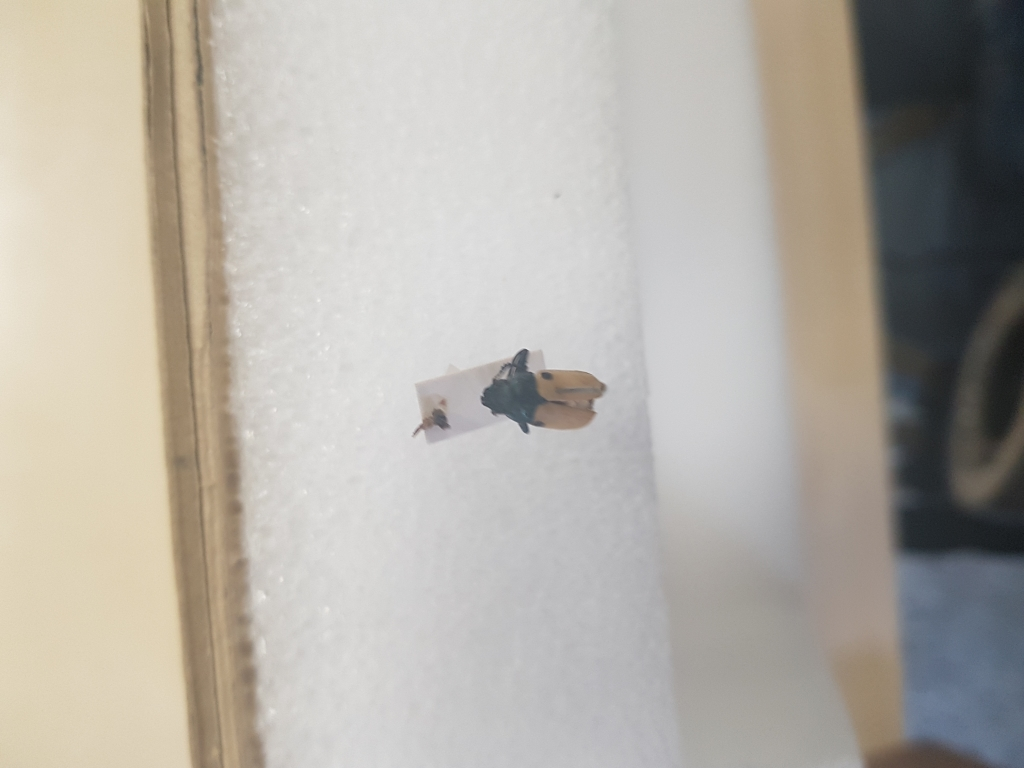Labidostomis_asiatica: (475, 347, 604, 439)
